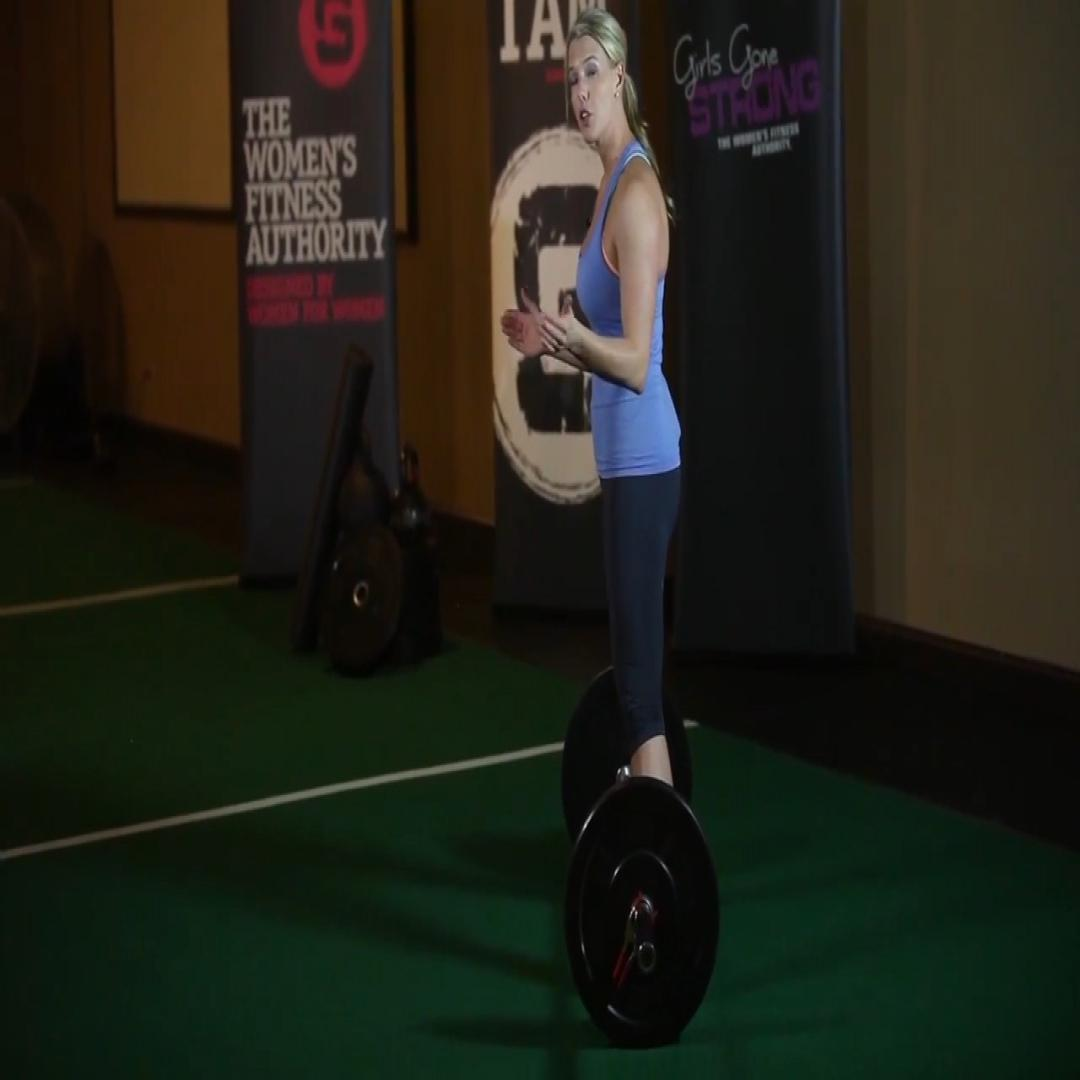Bar: (636, 939, 656, 974)
Barbell: (564, 777, 719, 1049)
